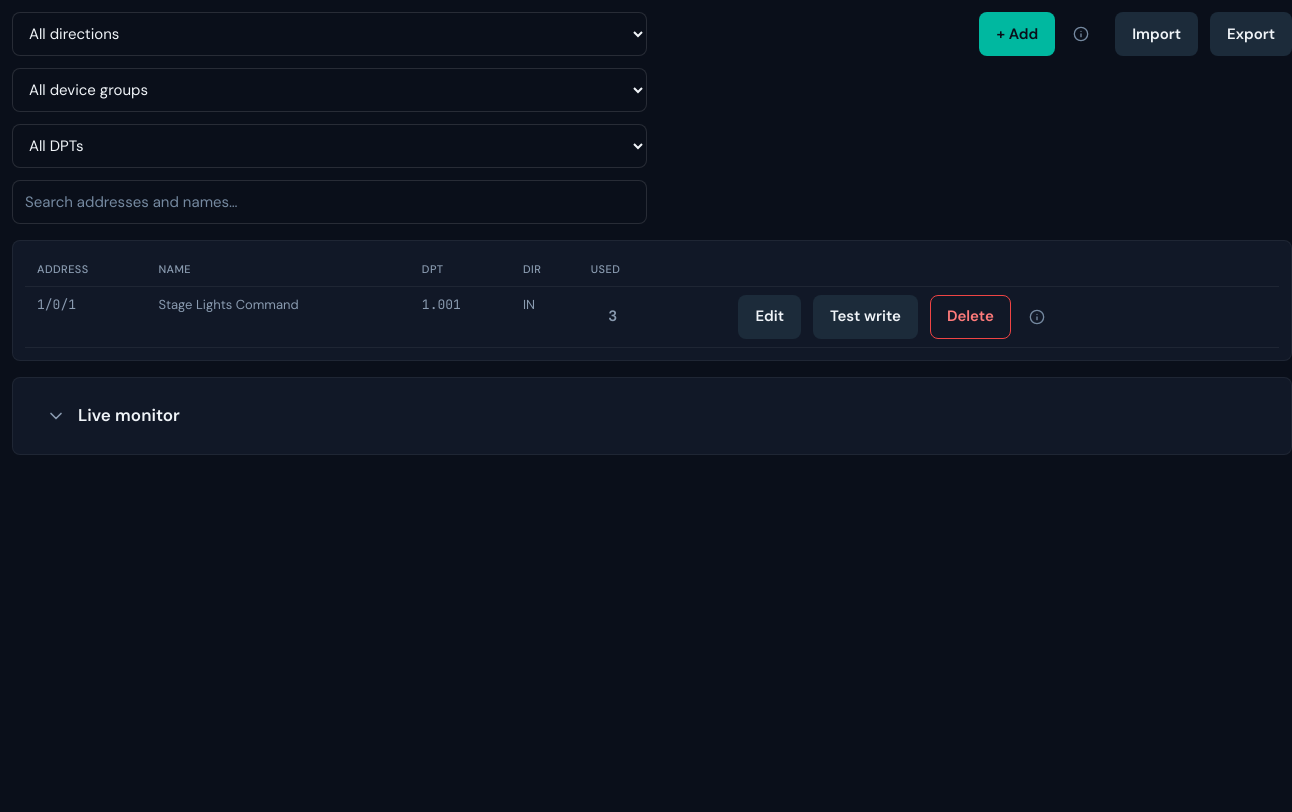
KNX Library gives every field and primary action help (spec §19.1) › Addresses tab's live monitor, once expanded
Click the button "Live monitor" at [113, 416], box [29,394,197,438]
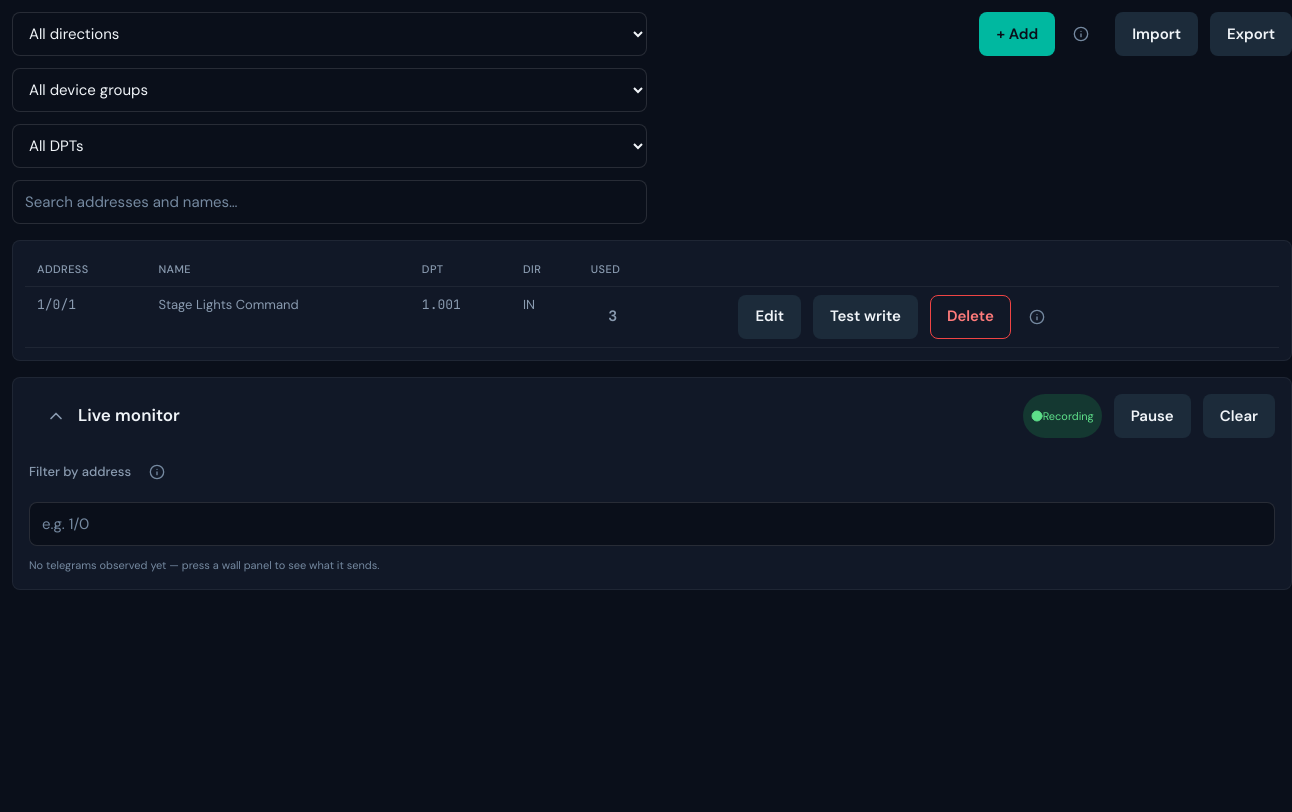
Check: the field labelled "Filter by address" is shown, box [29,502,1275,546]
